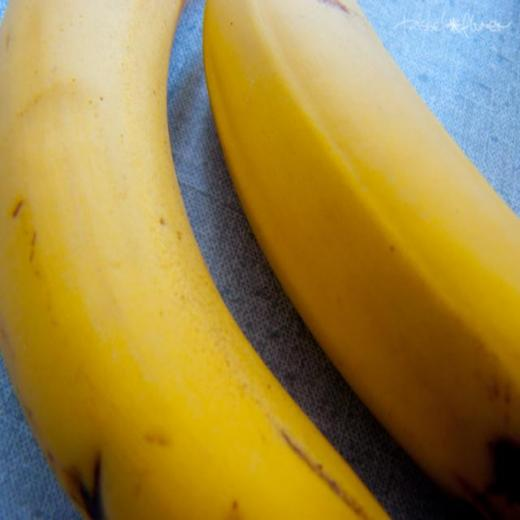Banana: (0, 0, 392, 520), (203, 0, 520, 520)
